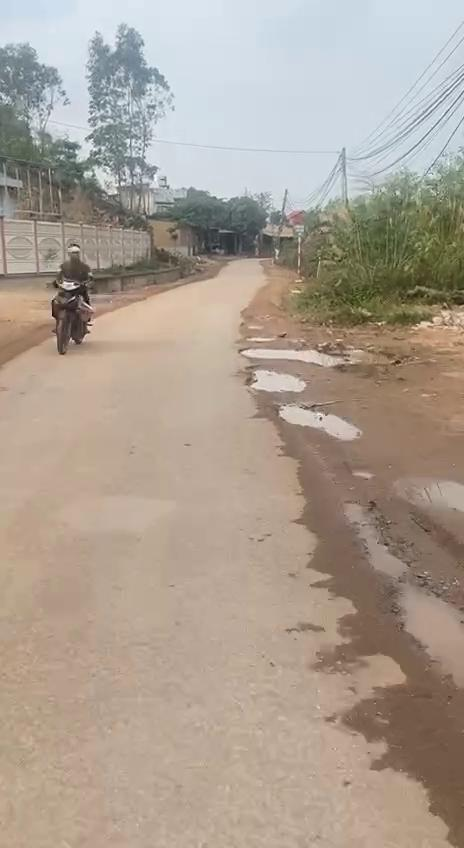pothole: (340, 484, 464, 726), (236, 342, 352, 397), (275, 402, 366, 446)
